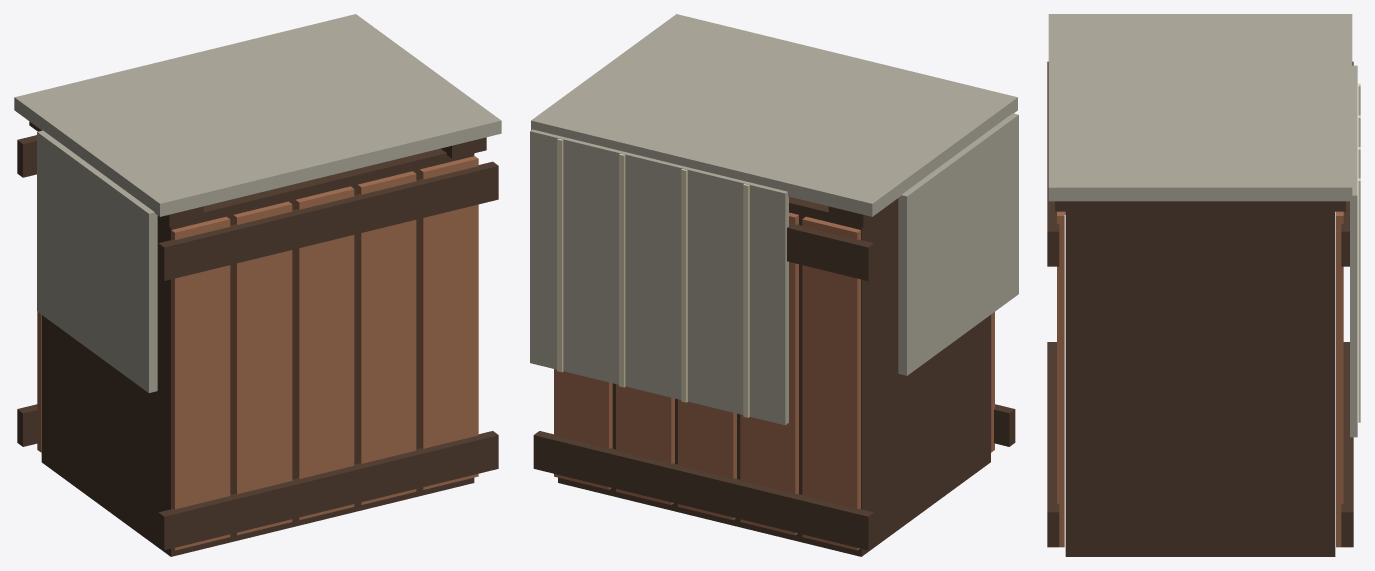
Rendered from LP_Exhibition_CoveredCrate.fbx.
3 renders of one model, left to right at view 1: azimuth 30°, elevation 25°; view 2: azimuth 150°, elevation 25°; view 3: azimuth 270°, elevation 25°, orthographic. The views are drawn at different scales.
Parts seen in each view (by area): view 1: M_Museum_DustCloth, Terracotta, Walnut; view 2: M_Museum_DustCloth, Walnut, Terracotta, WarmIvory; view 3: Walnut, M_Museum_DustCloth, Terracotta, WarmIvory.
Part boxes in pixels (x1=…): M_Museum_DustCloth: x1=14, y1=14, x2=501, y2=392; Terracotta: x1=37, y1=156, x2=478, y2=550; Walnut: x1=17, y1=121, x2=498, y2=556; M_Museum_DustCloth: x1=530, y1=14, x2=1018, y2=425; Walnut: x1=533, y1=196, x2=1015, y2=556; Terracotta: x1=554, y1=212, x2=994, y2=550; WarmIvory: x1=557, y1=138, x2=749, y2=417; Walnut: x1=1047, y1=61, x2=1353, y2=556; M_Museum_DustCloth: x1=1048, y1=14, x2=1357, y2=437; Terracotta: x1=1057, y1=211, x2=1343, y2=547; WarmIvory: x1=1358, y1=83, x2=1360, y2=422.
Bounding box in the file's own units: 120 × 120 × 90.
